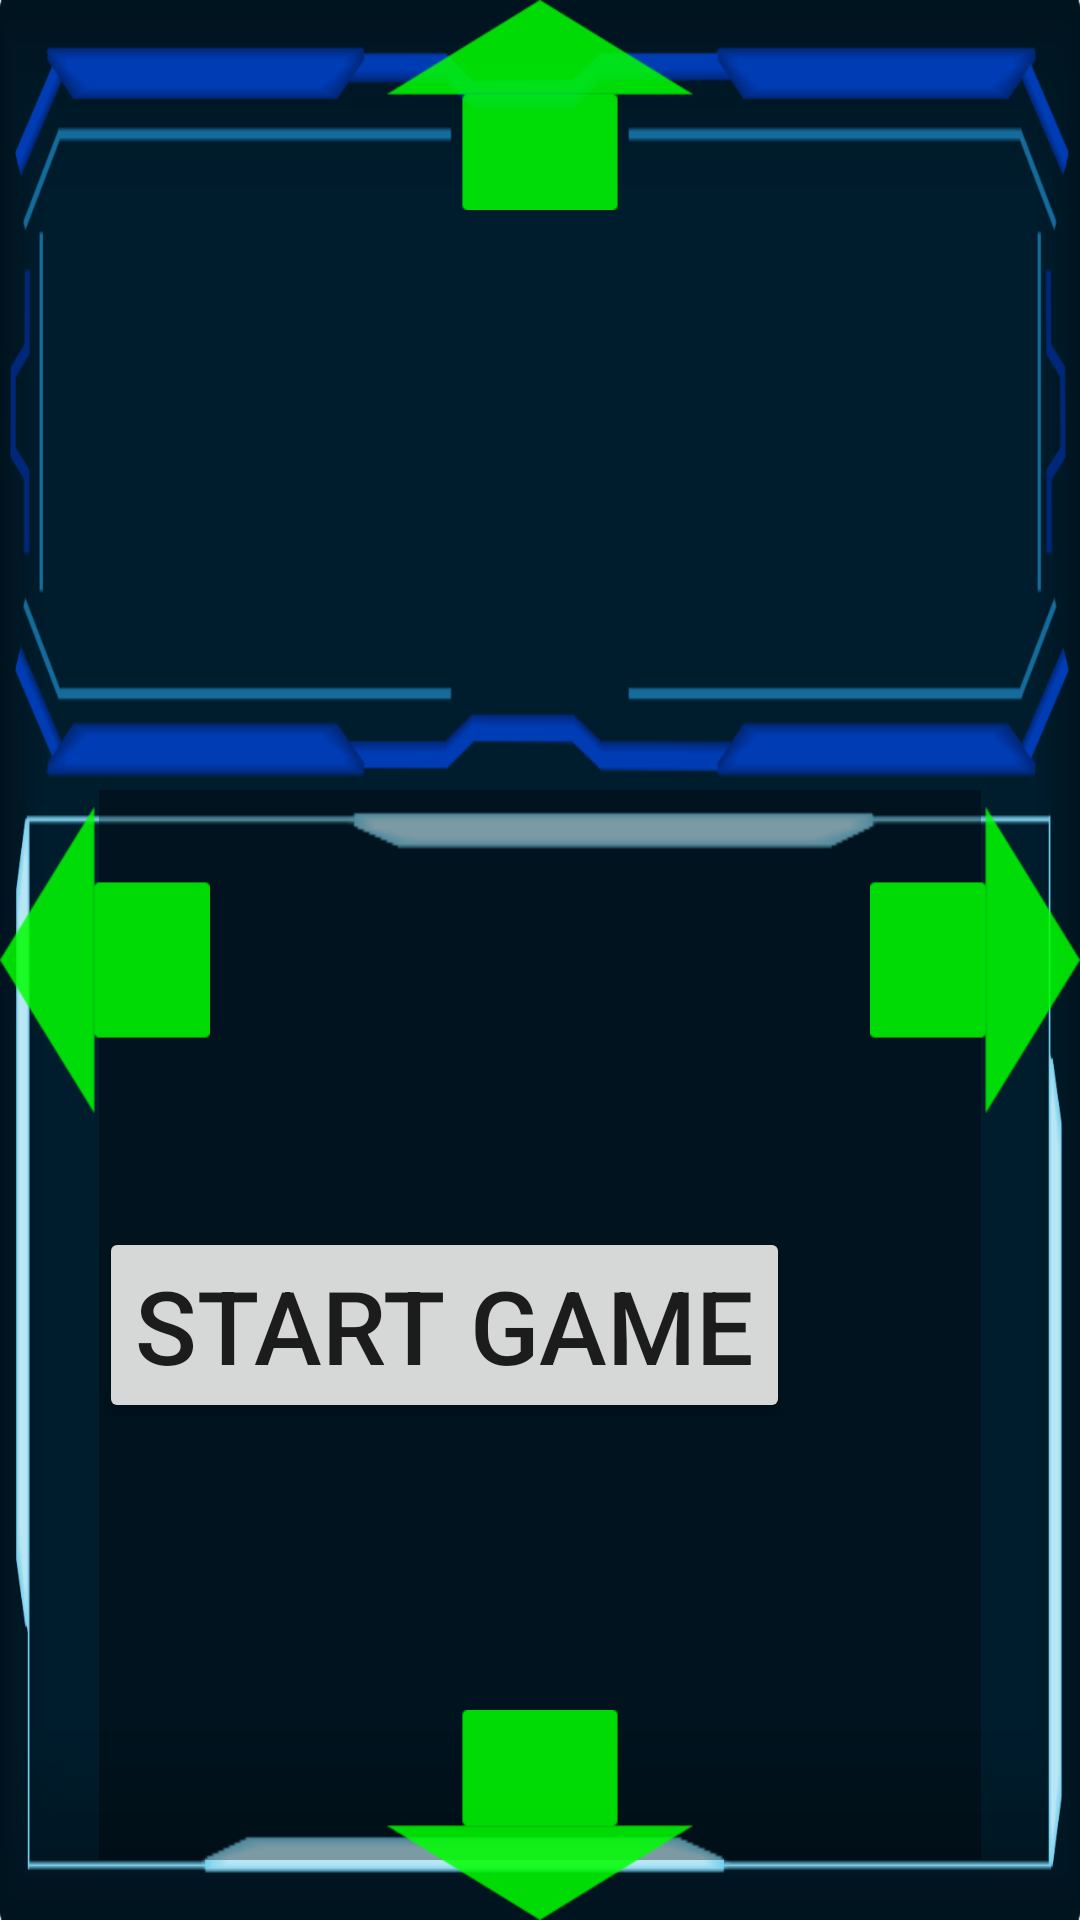

Screen size 1080w x 1920h. Icon name, then its center in pixels as (x,y):
downarrow: (540,1815)
leftarrow: (105,960)
rightarrow: (975,960)
uparrow: (540,105)
